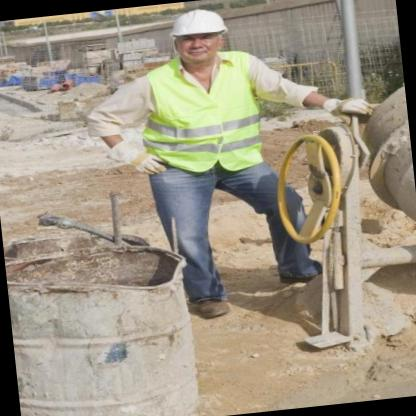bee: (160, 0, 239, 70)
